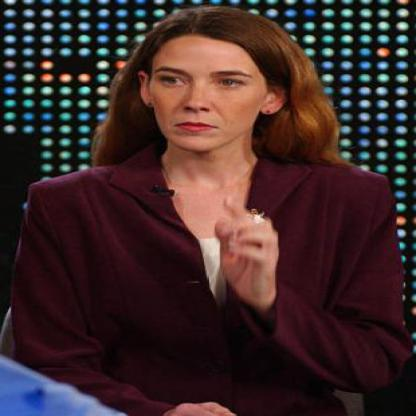face: (148, 13, 269, 153)
